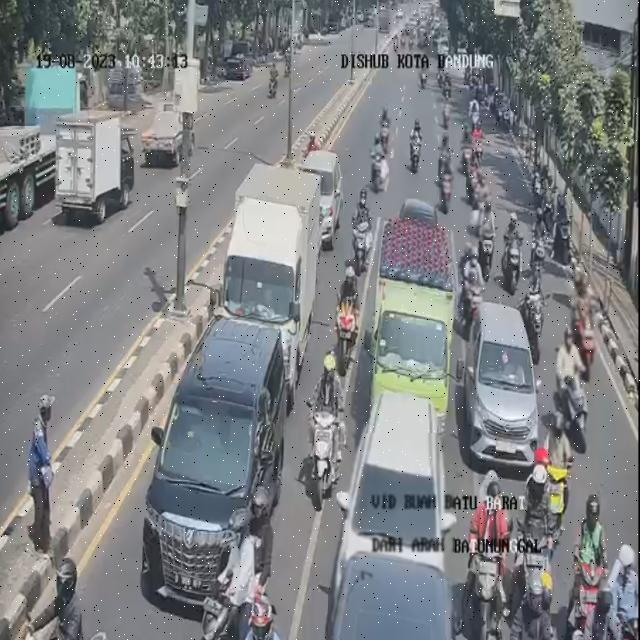cars: (142, 318, 288, 605), (328, 393, 455, 639), (457, 302, 540, 466), (301, 151, 342, 247)
motorcycle: (512, 470, 564, 640), (463, 472, 508, 640), (308, 349, 346, 511), (550, 324, 594, 461), (574, 490, 610, 640), (542, 413, 571, 557), (568, 276, 600, 380), (332, 269, 364, 366), (521, 265, 551, 364), (458, 244, 485, 331), (349, 183, 373, 277), (476, 199, 498, 280), (504, 211, 523, 299), (530, 206, 549, 287), (470, 174, 491, 240), (368, 133, 389, 196), (466, 154, 482, 210), (410, 115, 423, 174), (439, 160, 454, 211), (460, 122, 472, 177), (472, 118, 484, 167), (380, 101, 391, 154), (439, 132, 449, 177), (441, 98, 453, 130)
truck: (211, 163, 322, 408), (365, 218, 456, 433)
